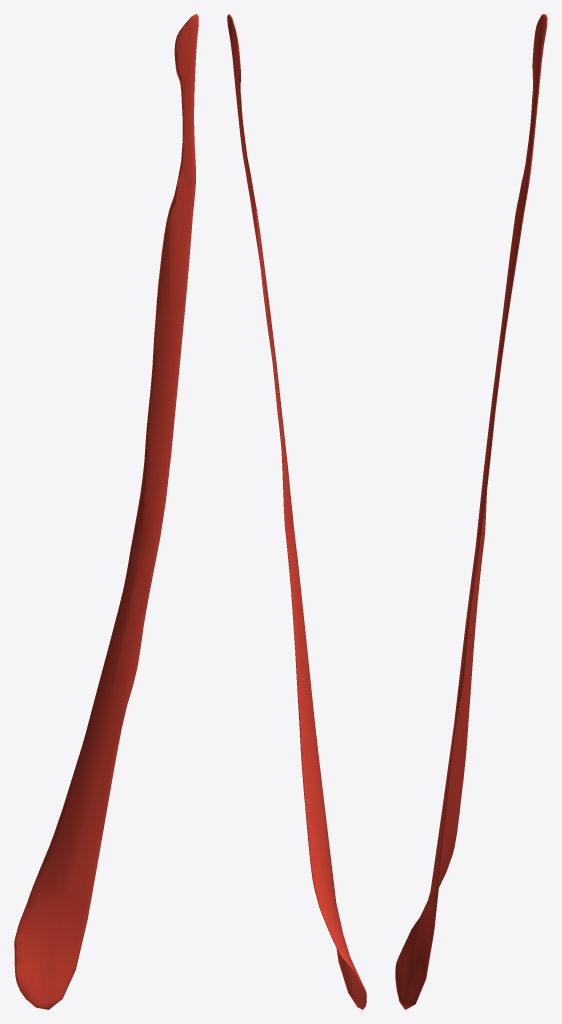
Rendered from Origin_of_vastus_medialis.l_Generated_Mesh_From_X3D.853.glb.
The picture shows the model from 3 angles, left to right: view 1: azimuth 30°, elevation 25°; view 2: azimuth 150°, elevation 25°; view 3: azimuth 330°, elevation 25°; orthographic projection. The views are drawn at different scales.
Visible parts, largest first — view 1: Origin_of_vastus_medialis.l_Generated_Mesh_From_X3D.853; view 2: Origin_of_vastus_medialis.l_Generated_Mesh_From_X3D.853; view 3: Origin_of_vastus_medialis.l_Generated_Mesh_From_X3D.853.
Boxes of the visible parts, x1,y1,x2,y2 form: Origin_of_vastus_medialis.l_Generated_Mesh_From_X3D.853: (14, 14, 198, 1009); Origin_of_vastus_medialis.l_Generated_Mesh_From_X3D.853: (227, 14, 366, 1009); Origin_of_vastus_medialis.l_Generated_Mesh_From_X3D.853: (395, 14, 547, 1009).
Size of the model in its own units: 0.0572 by 0.3266 by 0.0285.
